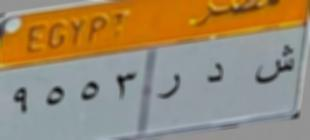3: (109, 65, 142, 103)
5: (75, 75, 104, 111), (42, 83, 70, 112)
9: (10, 82, 38, 118)
daal: (201, 60, 232, 90)
raa: (157, 70, 187, 101)
sheen: (251, 39, 300, 90)
